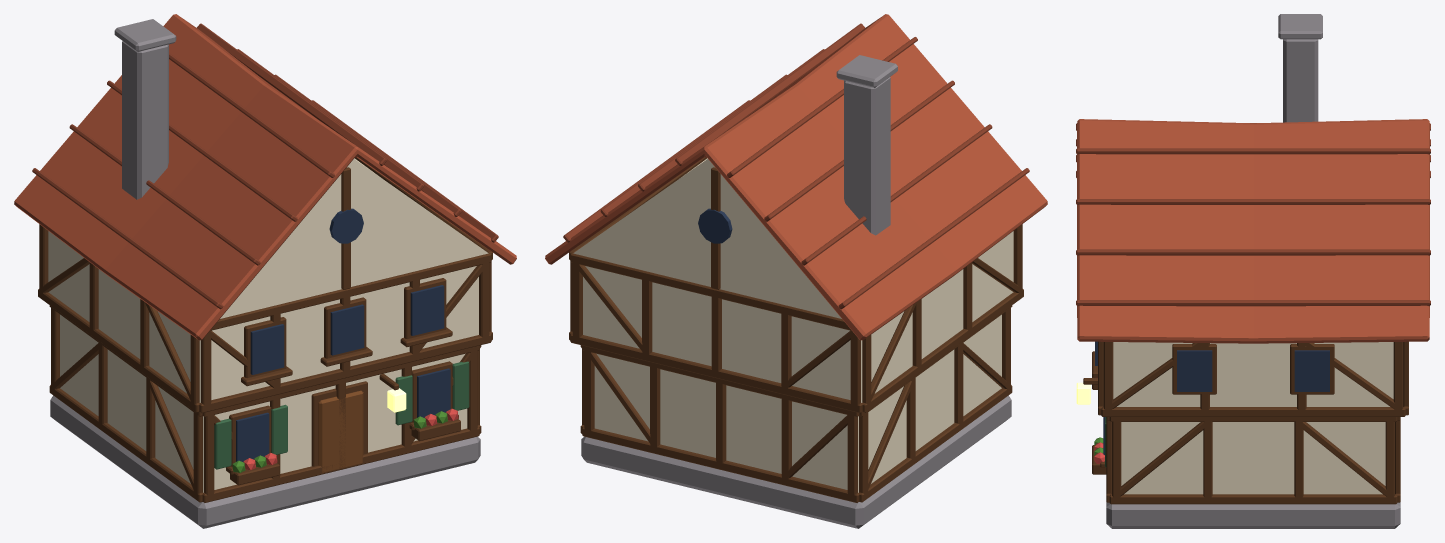
Rendered from house_north_3.glb.
3 views of the same model, side by side, from view 1: azimuth 30°, elevation 25°; view 2: azimuth 150°, elevation 25°; view 3: azimuth 270°, elevation 25° (orthographic). The views are drawn at different scales.
Visible parts, largest first — view 1: roof, floor2, gable-1, floor1, plinth, chimney, door, f2_front_sill, f2_front_plate, f1_front_sill, tiles3_1, f2_left_sill (+43 smaller); view 2: roof, floor1, floor2, gable1, plinth, chimney, f2_back_sill, f1_back_sill, f2_back_plate, tiles3_1, f2_left_sill, f1_left_sill (+36 smaller); view 3: roof, floor1, floor2, plinth, f1_right_sill, chimney, f2_right_sill, tiles1_1, tiles3_1, tiles0_1, tiles2_1, ws_-0.5_glass (+17 smaller).
Boxes of the visible parts, x1,y1,x2,y2 form: roof: (14,14,516,340); floor2: (48,158,478,402); gable-1: (220,159,488,318); floor1: (60,314,467,492); plinth: (50,395,480,528); chimney: (122,41,168,199); door: (318,390,363,472); f2_front_sill: (199,333,491,413); f2_front_plate: (211,252,491,330); f1_front_sill: (202,427,479,502); tiles3_1: (197,23,386,165); f2_left_sill: (38,289,199,412); roof: (545,14,1047,340); floor1: (594,314,1001,492); floor2: (583,158,1013,402); gable1: (573,159,841,318); plinth: (581,395,1011,528); chimney: (844,77,890,235); f2_back_sill: (570,333,862,413); f1_back_sill: (582,427,859,502); f2_back_plate: (570,252,850,330); tiles3_1: (675,23,864,165); f2_left_sill: (862,289,1023,412); f1_left_sill: (859,385,1012,502); roof: (1077,119,1429,343); floor1: (1121,422,1385,494); floor2: (1113,342,1393,406); plinth: (1106,502,1400,528); f1_right_sill: (1109,494,1397,504); chimney: (1283,39,1318,122); f2_right_sill: (1101,407,1405,416); tiles1_1: (1076,249,1430,255); tiles3_1: (1076,148,1430,154); tiles0_1: (1076,300,1430,306); tiles2_1: (1076,199,1430,204); ws_-0.5_glass: (1177,350,1212,391).
Bounding box in the file's own units: 3.01 × 3.73 × 3.01.
